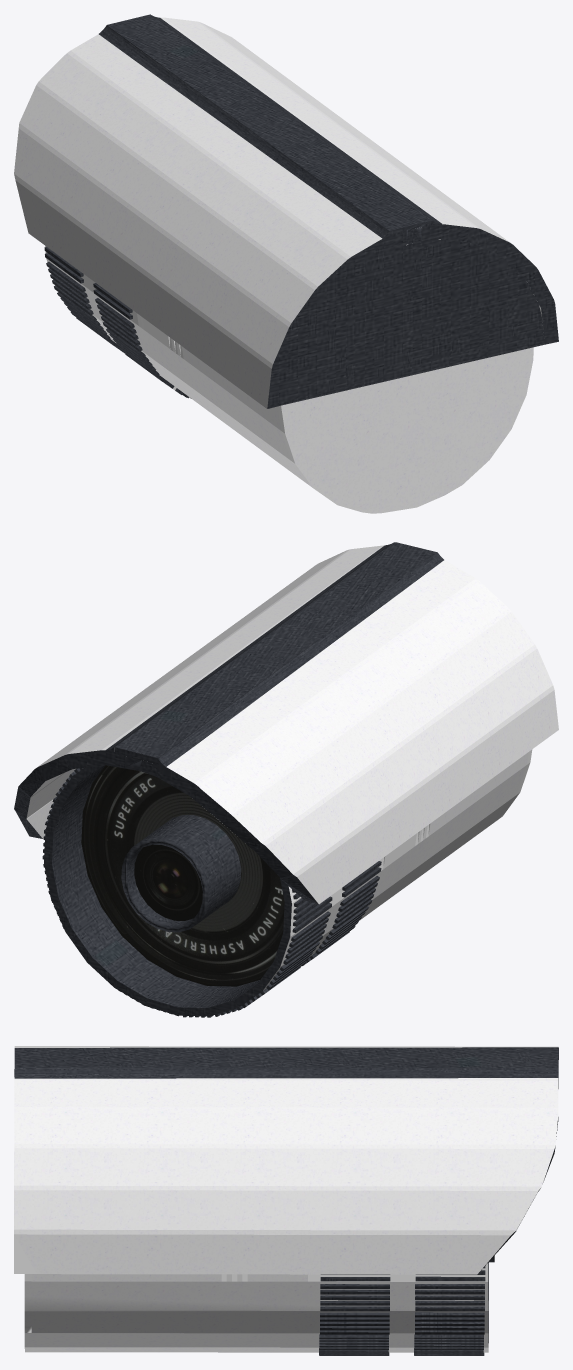
The model's file is cam.glb.
3 views of the same model, one above another, from view 1: azimuth 30°, elevation 25°; view 2: azimuth 150°, elevation 25°; view 3: azimuth 270°, elevation 25° (orthographic). The views are drawn at different scales.
Visible parts, largest first — view 1: Camera.001; view 2: Camera.001; view 3: Camera.001.
Boxes of the visible parts, <box> form: Camera.001: <box>14,14,558,513</box>; Camera.001: <box>14,542,558,1017</box>; Camera.001: <box>14,1046,558,1355</box>.
Bounding box in the file's own units: 0.9355 × 0.8943 × 1.56.
Materials: 4 (3 with a texture image).
